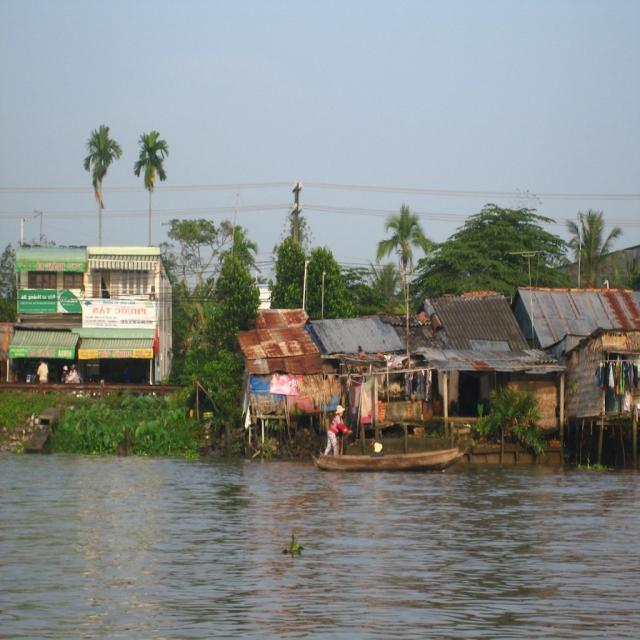Hyacinth: (274, 526, 310, 566), (575, 462, 606, 494)
boat: (319, 443, 471, 483), (16, 400, 63, 460)
